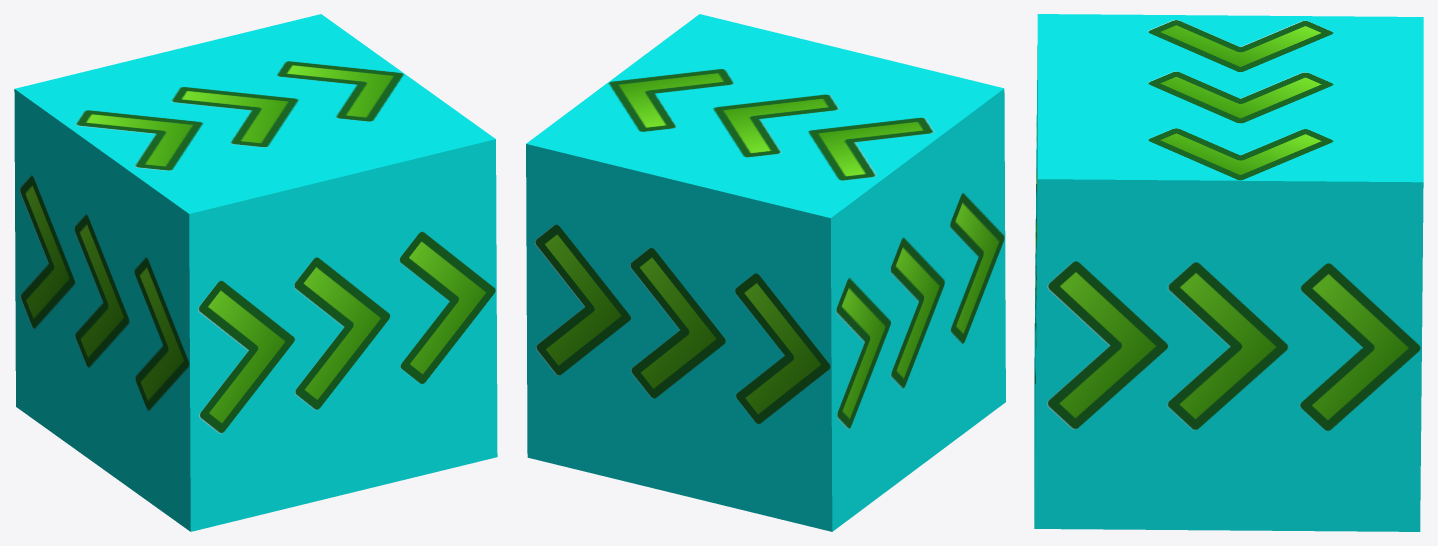
Rendered from block_speedup_2.FBX.
The picture shows the model from 3 angles, left to right: view 1: azimuth 30°, elevation 25°; view 2: azimuth 150°, elevation 25°; view 3: azimuth 270°, elevation 25°; orthographic projection. The views are drawn at different scales.
Visible parts, largest first — view 1: Box001; view 2: Box001; view 3: Box001.
Boxes of the visible parts, box(x1,y1,x2,y2) form: Box001: box(14, 14, 497, 531); Box001: box(526, 14, 1005, 531); Box001: box(1034, 14, 1423, 531).
Size of the model in its own units: 101 by 101 by 101.
Materials: 1 (1 with a texture image).
